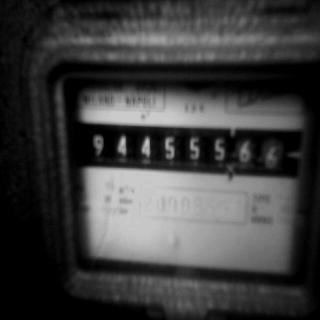5: (115, 133, 129, 159), (139, 136, 153, 161)
6: (188, 136, 203, 161), (212, 138, 227, 163), (162, 136, 176, 161)
7: (267, 144, 280, 169), (239, 140, 252, 164)
:: (92, 134, 104, 159)
